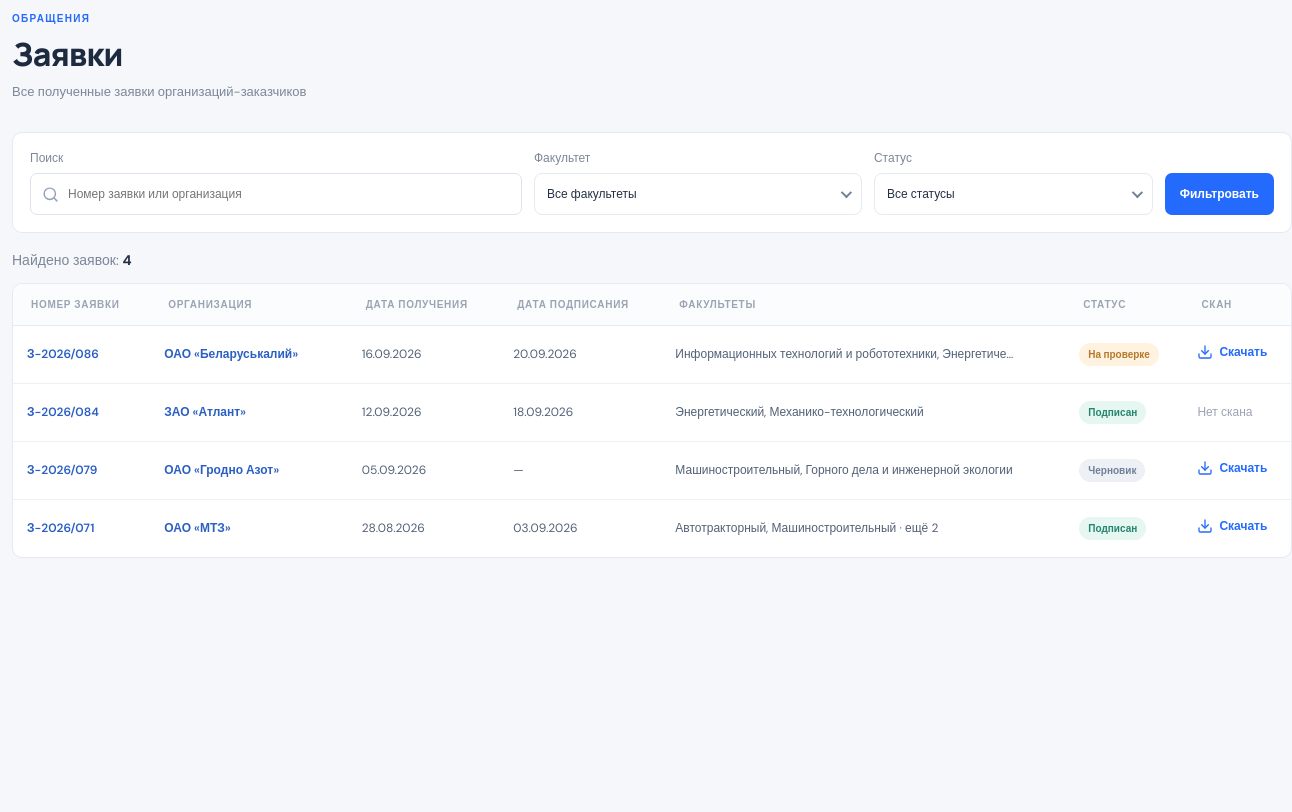
Test case: ApplicationsPage › filters by application number after form submit
This screenshot has width=1292, height=812.
Type "  з-2026/084  " into the search field with placeholder "Номер заявки или организация" at (276, 194), box x1=30 y1=173 x2=522 y2=215
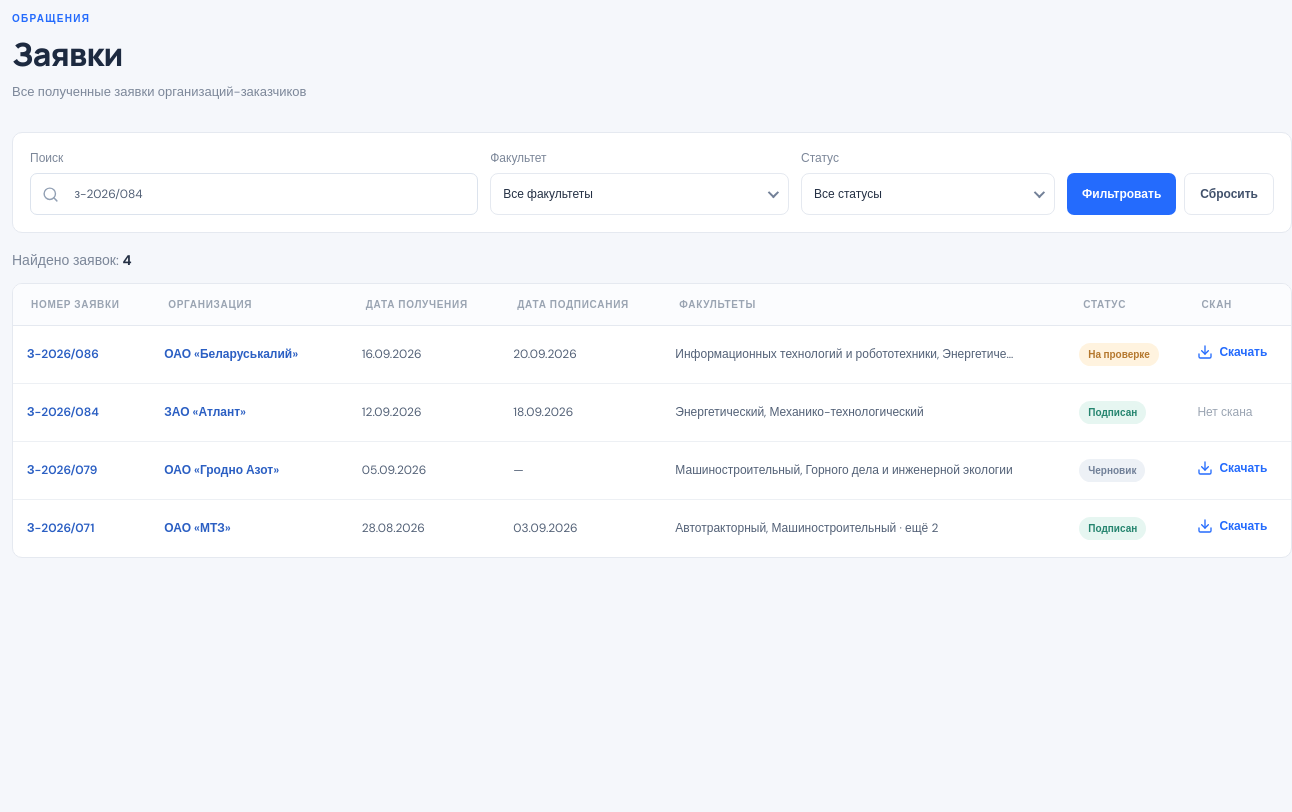
Click the button "Фильтровать" at (1122, 194), box x1=1067 y1=173 x2=1176 y2=215
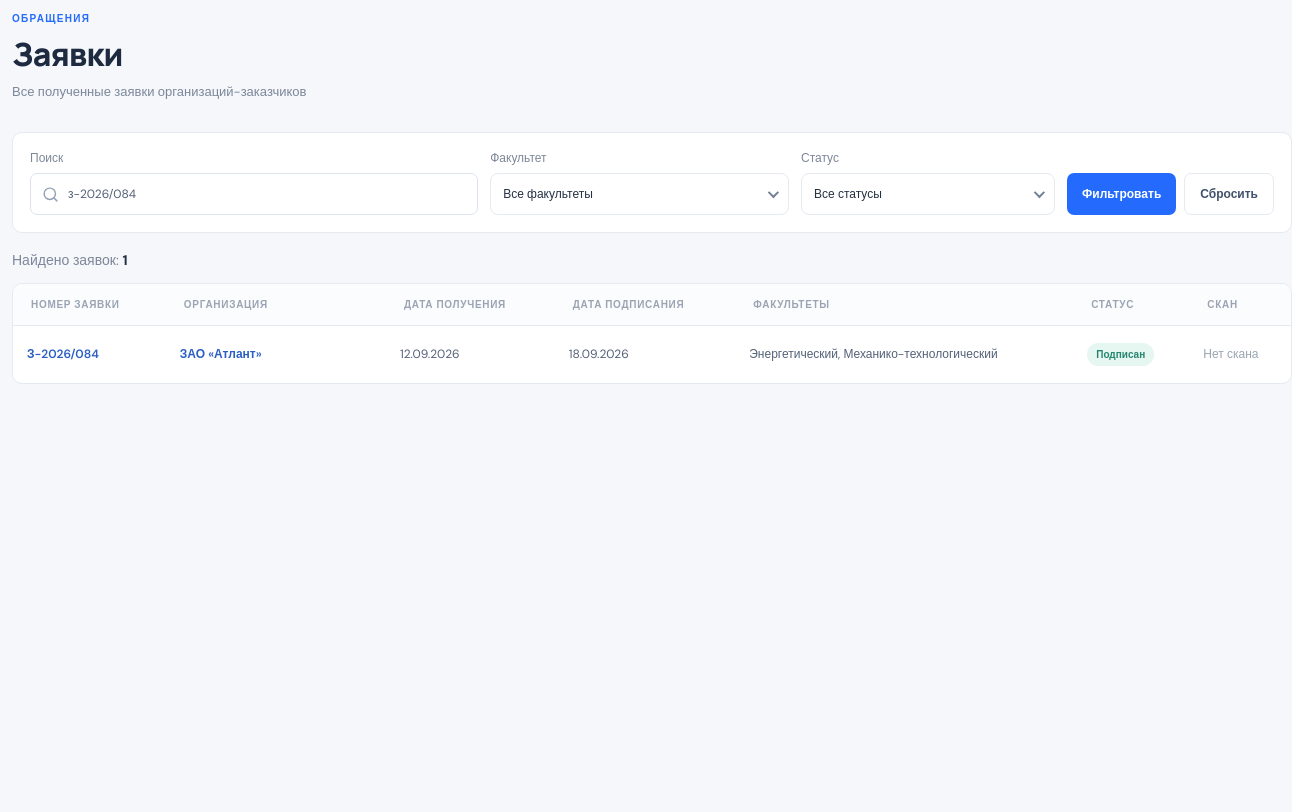
expect the link "З-2026/084" is shown: met, box x1=27 y1=346 x2=99 y2=362
expect the link "З-2026/086" is gone: met
